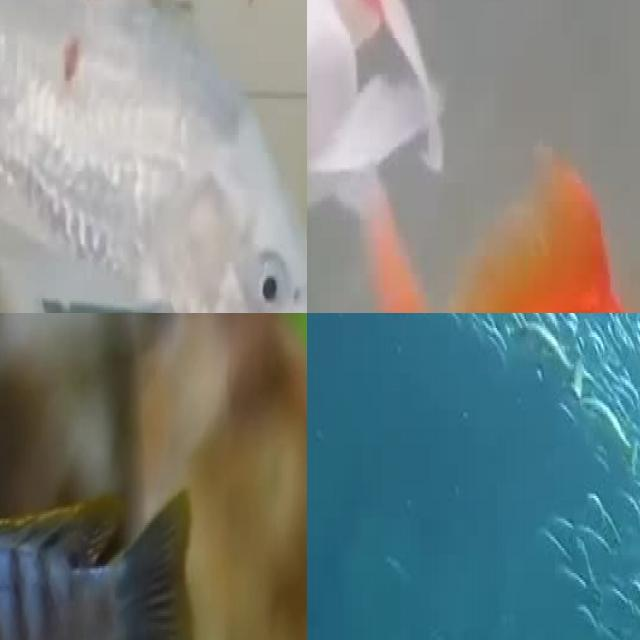fish: (0, 0, 307, 313), (350, 117, 640, 313)
